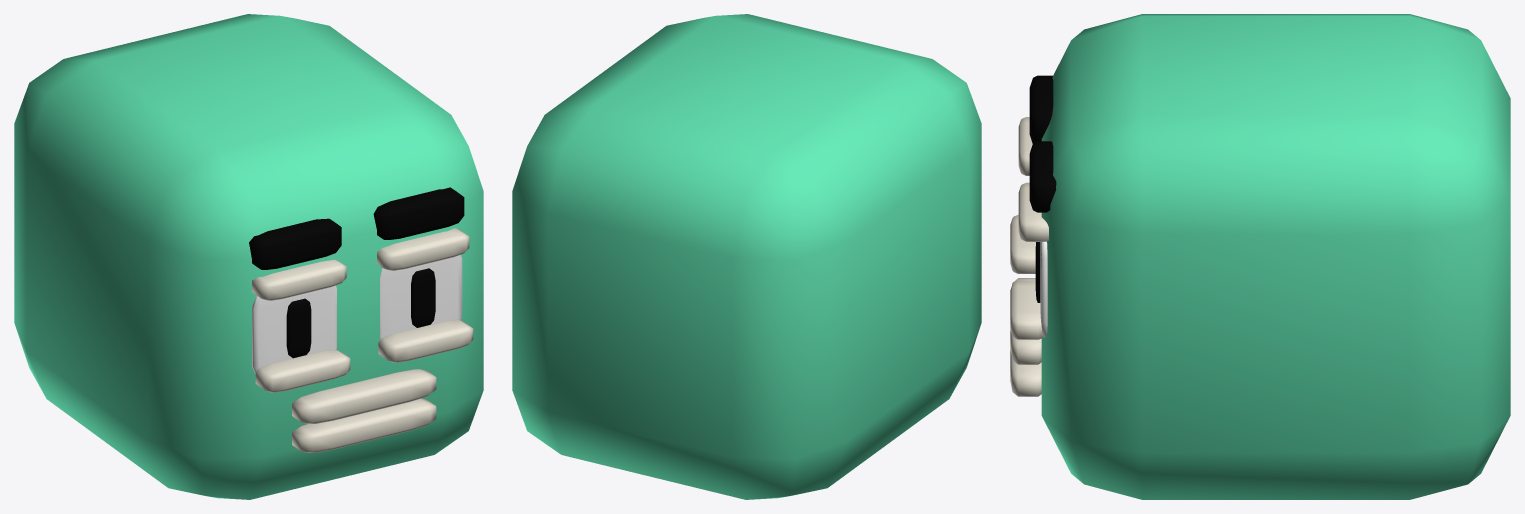
The model's file is Newface2416.glb.
The picture shows the model from 3 angles, left to right: view 1: azimuth 30°, elevation 25°; view 2: azimuth 150°, elevation 25°; view 3: azimuth 270°, elevation 25°; orthographic projection. The views are drawn at different scales.
Parts seen in each view (by area): view 1: Cube; view 2: Cube; view 3: Cube.
Part boxes in pixels (x1,y1,x2,y2): Cube: (14,14,483,499); Cube: (512,14,981,499); Cube: (1010,14,1510,499).
Bounding box in the file's own units: 2.6 × 2.67 × 3.16.
